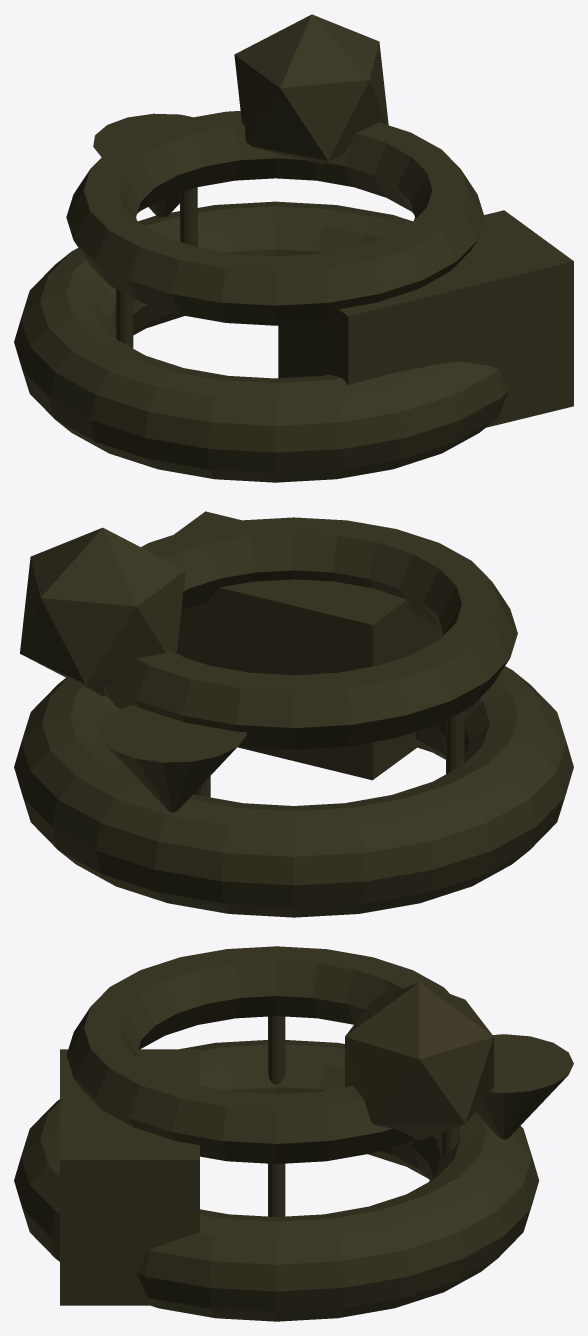
3 views of the same model, one above another, from view 1: azimuth 30°, elevation 25°; view 2: azimuth 150°, elevation 25°; view 3: azimuth 270°, elevation 25° (orthographic). The views are drawn at different scales.
Visible parts, largest first — view 1: Torus; view 2: Torus; view 3: Torus.
Part boxes in pixels (x1,y1,x2,y2): Torus: (14, 14, 573, 482); Torus: (14, 511, 573, 917); Torus: (14, 946, 573, 1321).
Size of the model in its own units: 30 by 18.8 by 31.98.
